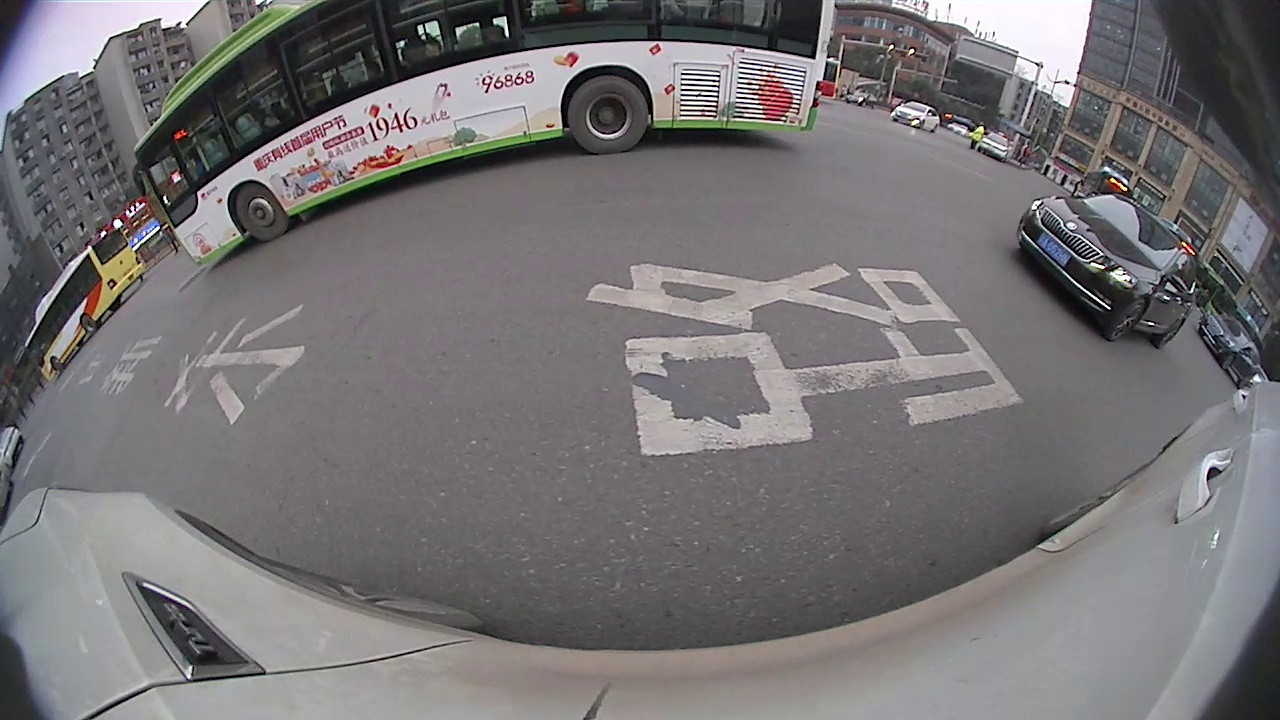car: (228, 2, 805, 283), (879, 140, 1058, 257), (1052, 239, 1173, 361), (1, 275, 98, 406), (1169, 382, 1265, 504), (124, 176, 187, 245), (72, 232, 127, 296)
front: (250, 213, 314, 281), (946, 196, 977, 227), (1114, 324, 1141, 352)
rear: (562, 178, 688, 283), (1021, 232, 1043, 256)
